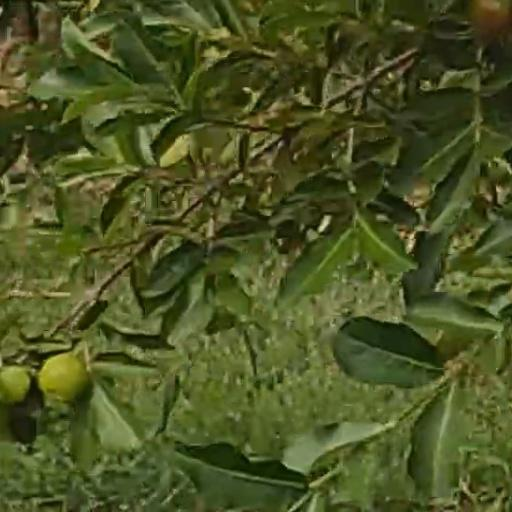acerola: (41, 357, 89, 403), (1, 368, 31, 403)
